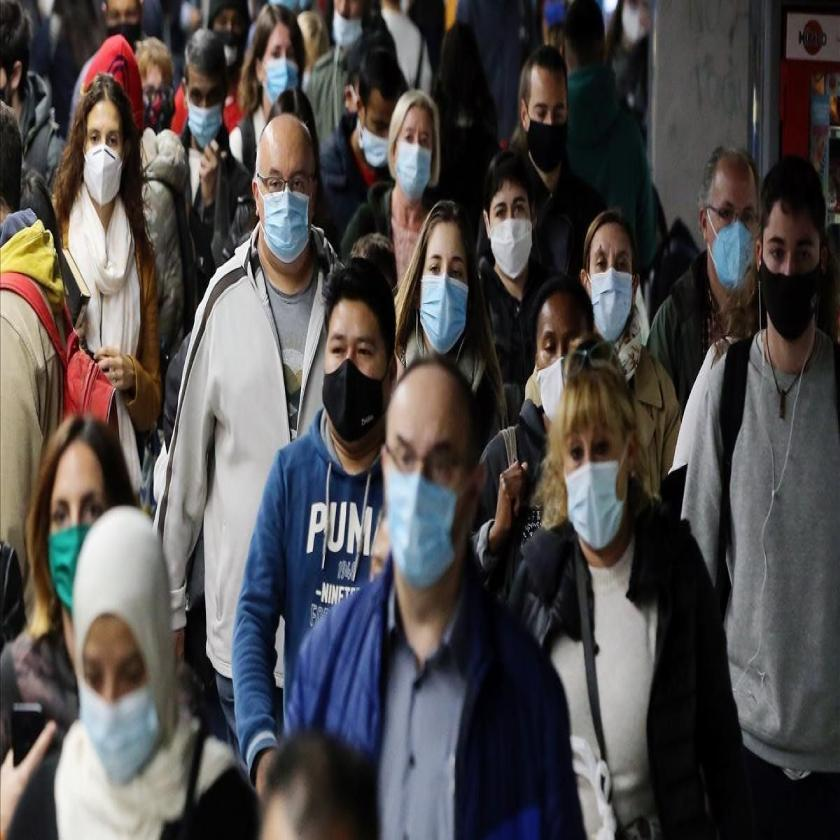Sin_casco: (383, 362, 482, 610), (557, 359, 648, 574), (38, 407, 127, 617), (310, 259, 394, 445), (759, 147, 827, 352), (76, 79, 143, 233), (250, 115, 318, 266), (414, 196, 476, 354), (704, 137, 756, 309), (587, 201, 639, 345), (485, 142, 535, 282), (517, 42, 571, 171), (350, 37, 400, 172), (387, 87, 438, 219), (236, 12, 296, 114), (182, 30, 228, 137)
